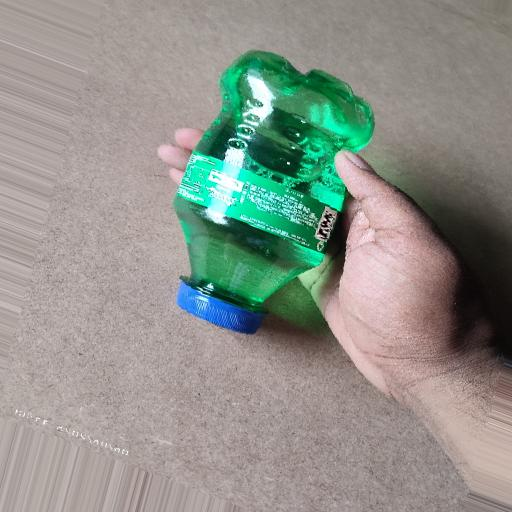Sprite: (162, 31, 396, 393)
